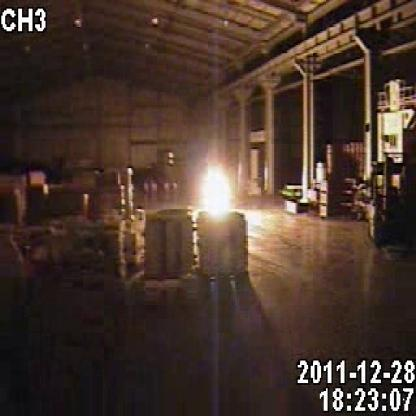fire: (186, 144, 257, 229)
